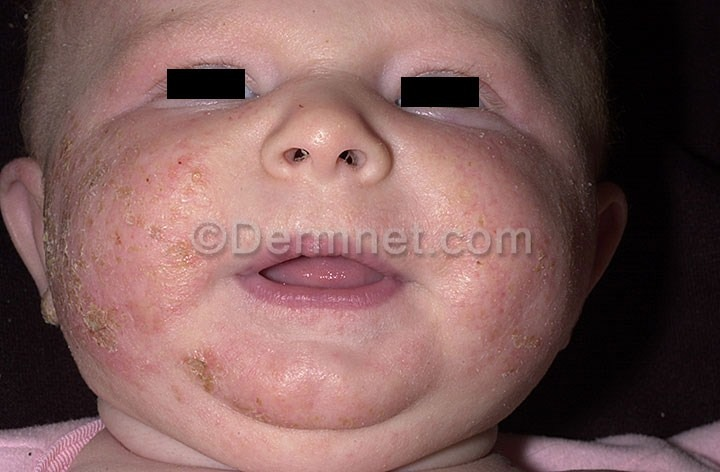Eczema: (38, 129, 269, 432), (435, 141, 571, 390)
